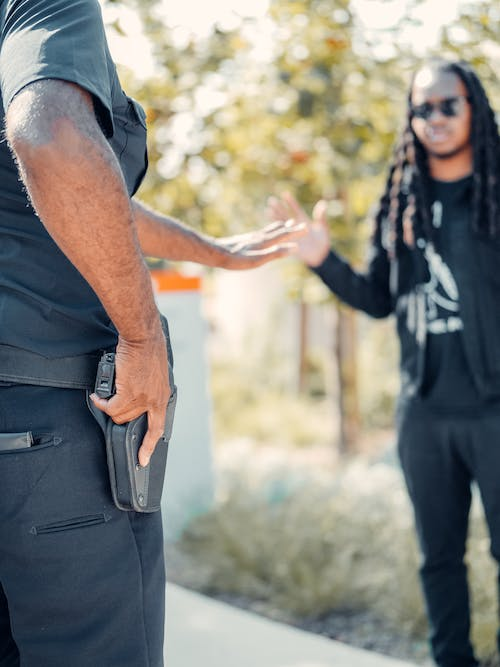gun: (87, 345, 180, 517)
